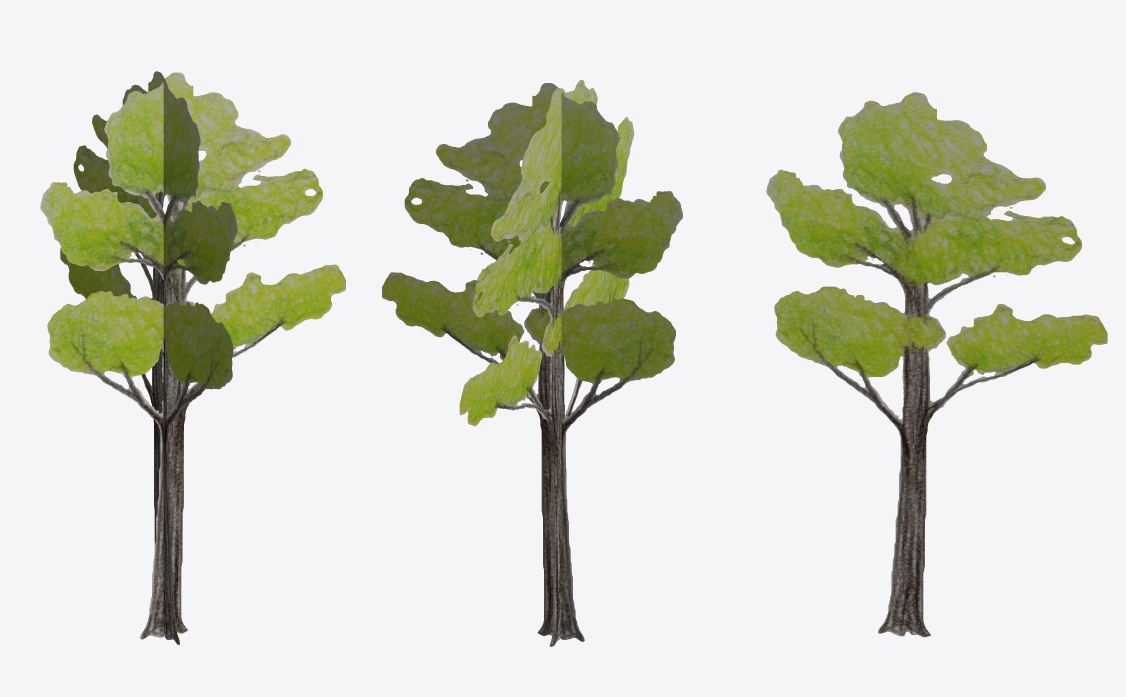
File: Tree1.fbx
The picture shows the model from 3 angles, left to right: view 1: azimuth 30°, elevation 25°; view 2: azimuth 150°, elevation 25°; view 3: azimuth 270°, elevation 25°; orthographic projection. The views are drawn at different scales.
Visible parts, largest first — view 1: Tree1; view 2: Tree1; view 3: Tree1.
Boxes of the visible parts, bbox=[...] form: Tree1: bbox=[40, 71, 345, 644]; Tree1: bbox=[382, 80, 682, 646]; Tree1: bbox=[766, 92, 1107, 637].
Size of the model in its own units: 1192 by 2039 by 1192.
Materials: 1 (1 with a texture image).
